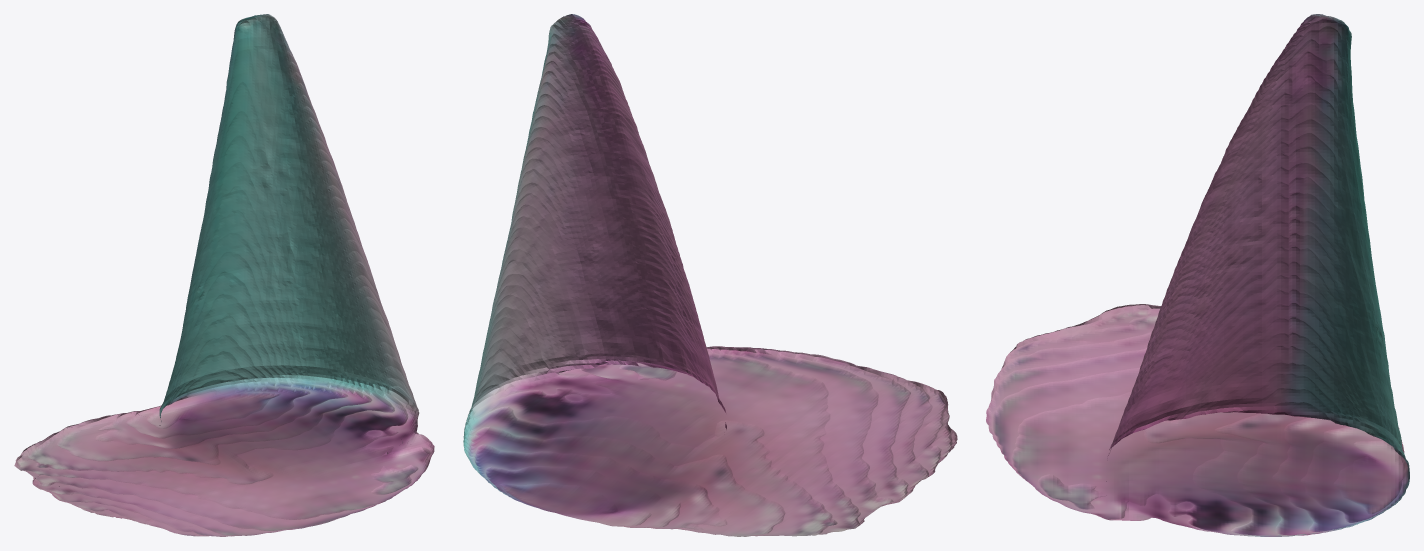
3 views of the same model, side by side, from view 1: azimuth 30°, elevation 25°; view 2: azimuth 150°, elevation 25°; view 3: azimuth 270°, elevation 25° (orthographic). The views are drawn at different scales.
Parts seen in each view (by area): view 1: geometry_0; view 2: geometry_0; view 3: geometry_0.
Part boxes in pixels (x1=…): geometry_0: x1=14, y1=14, x2=434, y2=536; geometry_0: x1=463, y1=14, x2=957, y2=536; geometry_0: x1=986, y1=14, x2=1409, y2=536.
Size of the model in its own units: 1.53 by 1.6 by 1.29.
